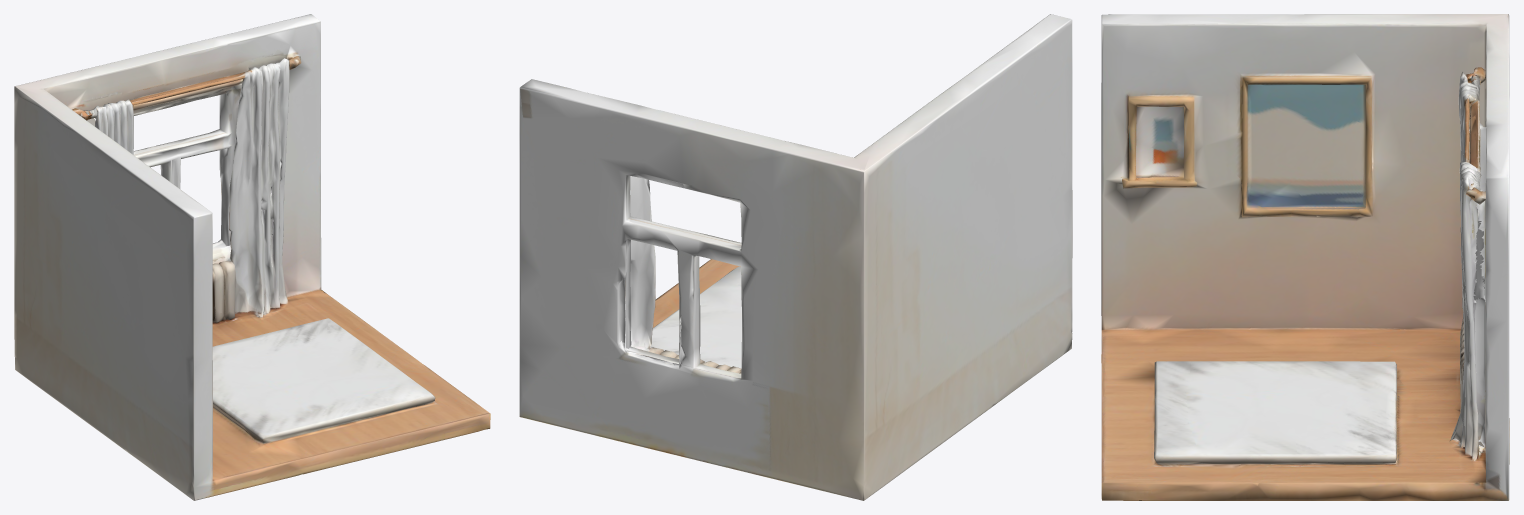
File: room.glb
3 renders of one model, left to right at view 1: azimuth 30°, elevation 25°; view 2: azimuth 150°, elevation 25°; view 3: azimuth 270°, elevation 25°, orthographic. The views are drawn at different scales.
Size of the model in its own units: 1.91 by 1.75 by 2.
1 material, 1 textured.
